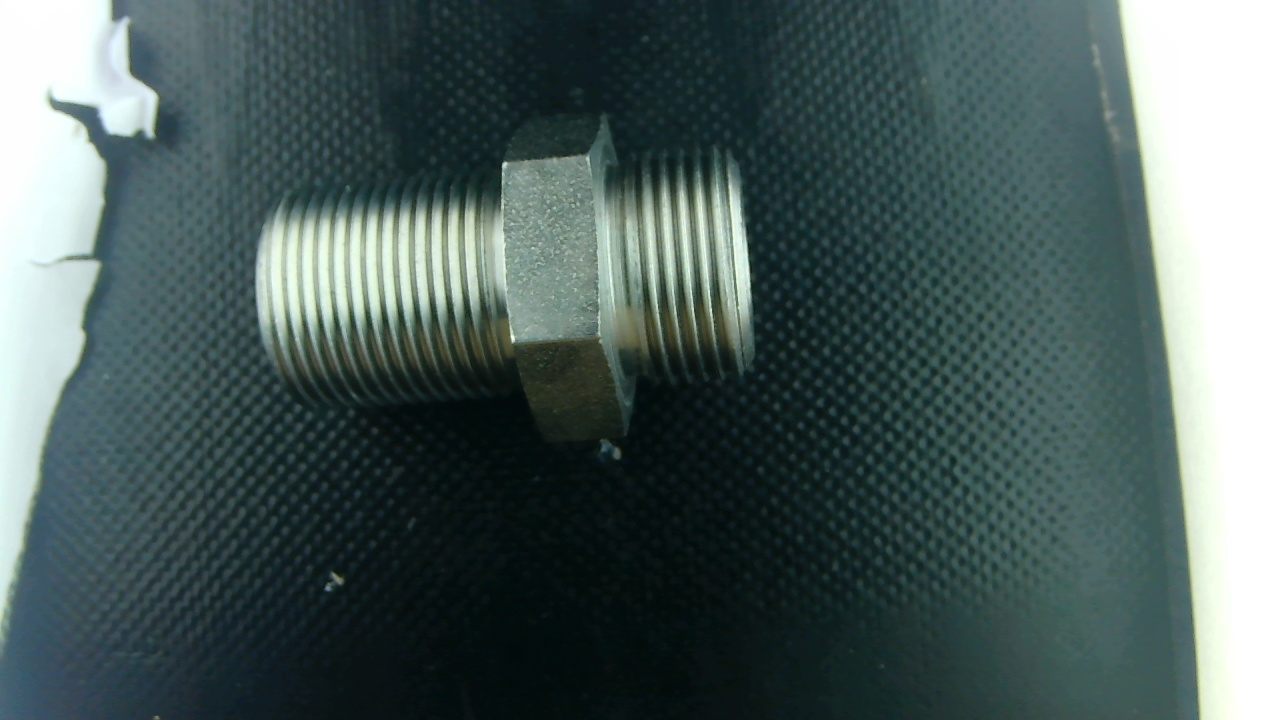okay_adapter: (255, 115, 754, 440)
